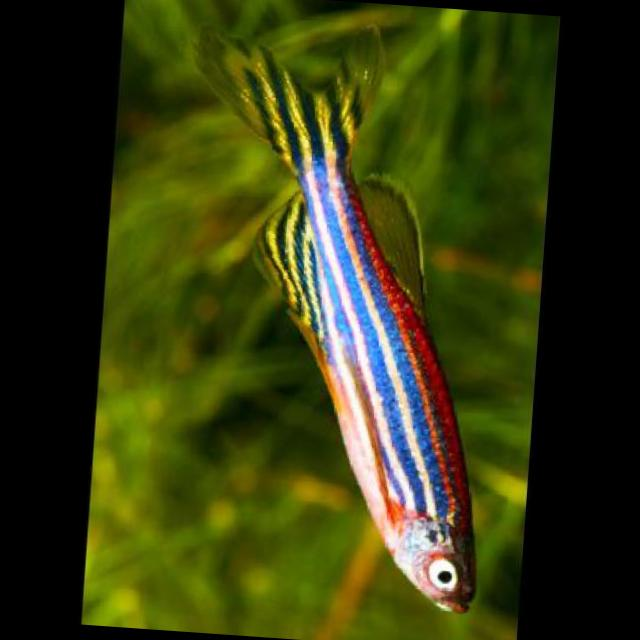ZebraFish: (160, 11, 518, 616)
